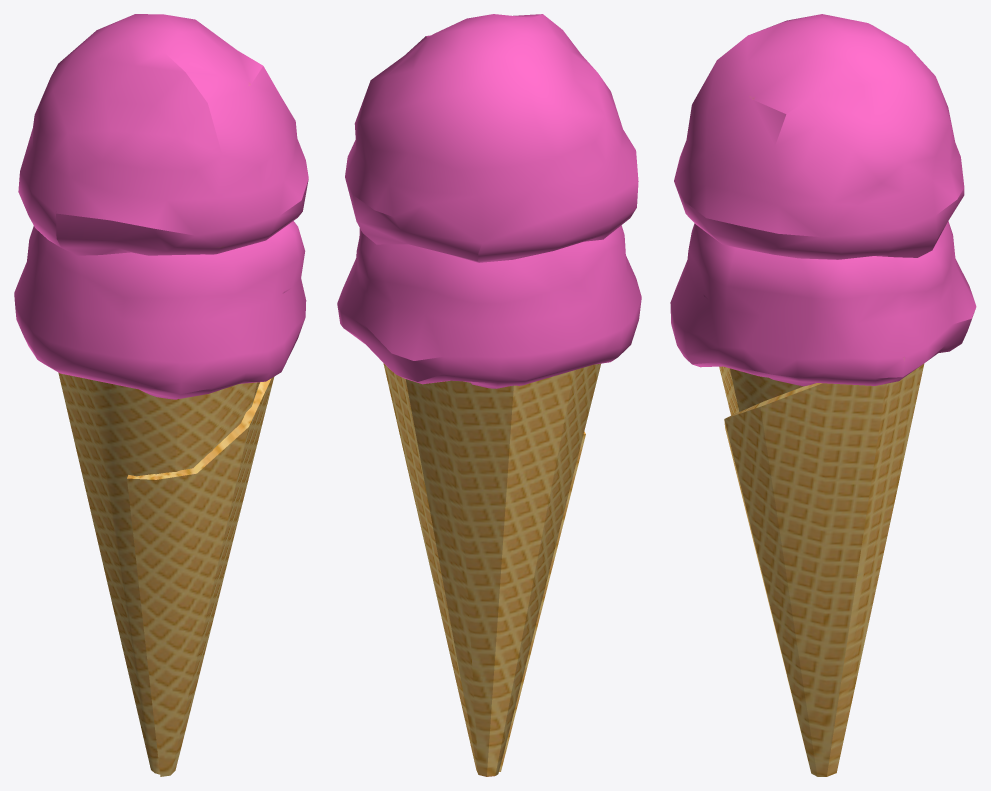
Rendered from Pink Final.obj.
3 renders of one model, left to right at view 1: azimuth 30°, elevation 25°; view 2: azimuth 150°, elevation 25°; view 3: azimuth 270°, elevation 25°, orthographic.
Parts seen in each view (by area): view 1: ice_cream_cone_blue; view 2: ice_cream_cone_blue; view 3: ice_cream_cone_blue.
Boxes of the visible parts, x1,y1,x2,y2 form: ice_cream_cone_blue: (14,14,308,776); ice_cream_cone_blue: (337,14,641,776); ice_cream_cone_blue: (670,14,976,776).
Bounding box in the file's own units: 0.1197 × 0.333 × 0.1236.
Materials: 1 (1 with a texture image).
